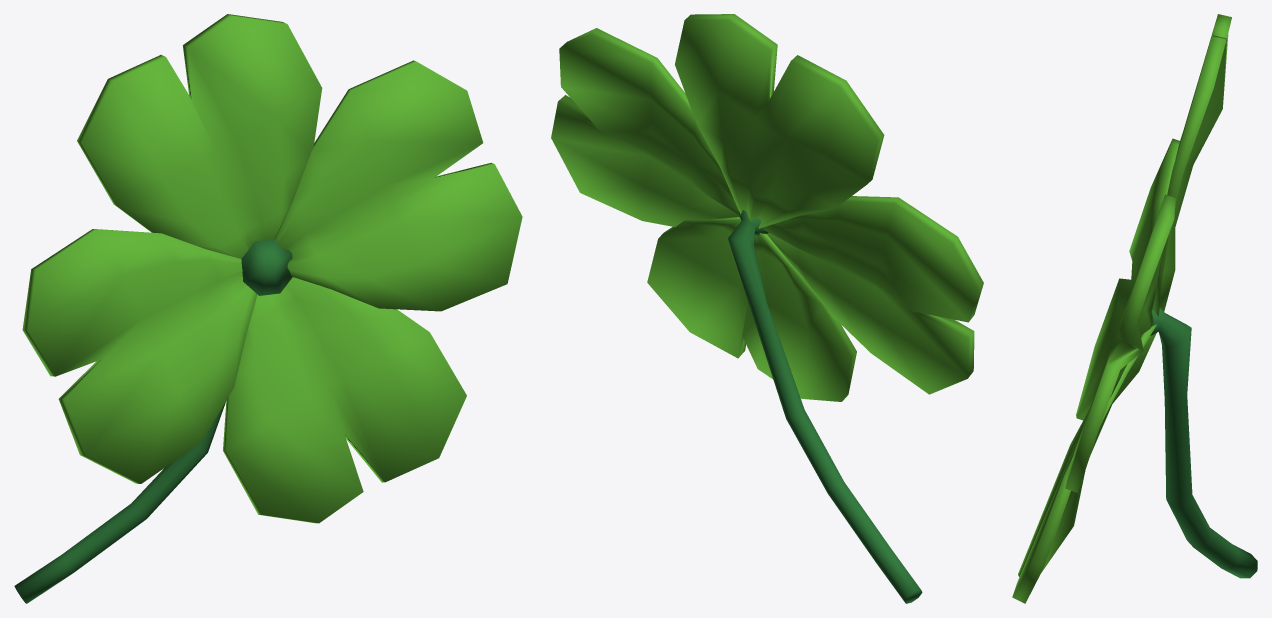
File: clover.glb
3 renders of one model, left to right at view 1: azimuth 30°, elevation 25°; view 2: azimuth 150°, elevation 25°; view 3: azimuth 270°, elevation 25°, orthographic. The views are drawn at different scales.
Parts seen in each view (by area): view 1: Plane.043, Cube.025; view 2: Plane.043, Cube.025; view 3: Plane.043, Cube.025.
Part boxes in pixels (x1=…): Plane.043: x1=22, y1=14, x2=522, y2=523; Cube.025: x1=14, y1=239, x2=292, y2=603; Plane.043: x1=551, y1=14, x2=983, y2=401; Cube.025: x1=728, y1=210, x2=922, y2=603; Plane.043: x1=1012, y1=14, x2=1231, y2=603; Cube.025: x1=1150, y1=307, x2=1257, y2=578.
Bounding box in the file's own units: 0.639 × 0.7161 × 0.2434.
